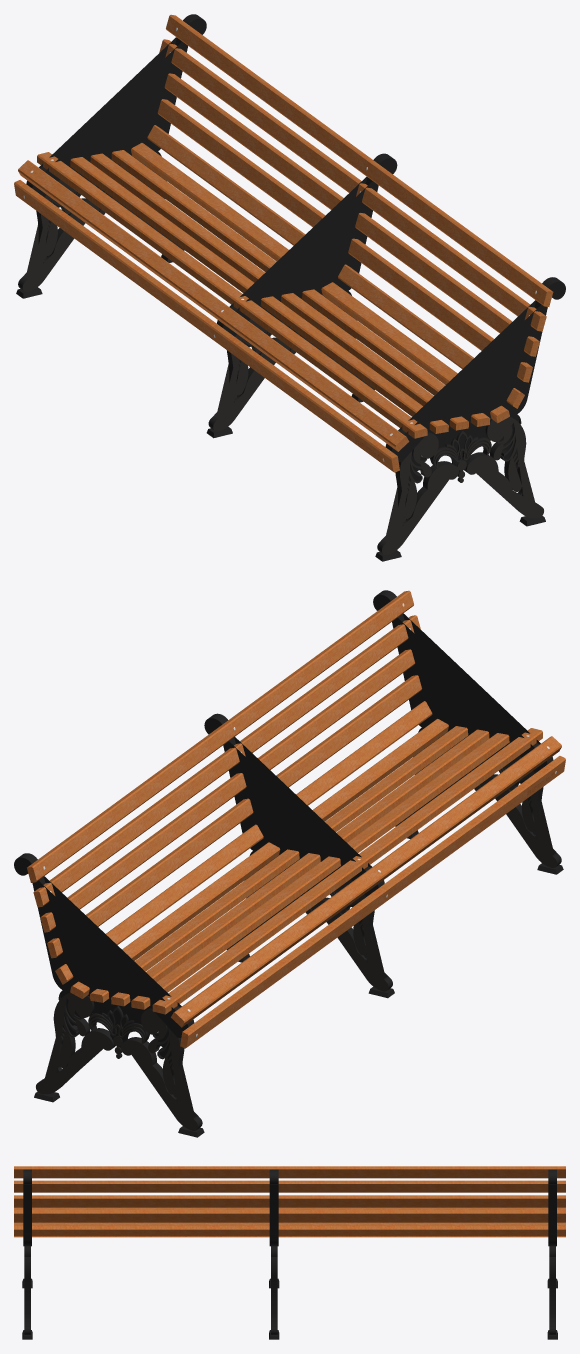
The model's file is bench.obj.
3 renders of one model, top to bottom at view 1: azimuth 30°, elevation 25°; view 2: azimuth 150°, elevation 25°; view 3: azimuth 270°, elevation 25°, orthographic. The views are drawn at different scales.
Parts seen in each view (by area): view 1: Mesh22 Group_59_12 Component_24_1 Model, Mesh12 Group_59_2 Component_24_1 Model, Mesh21 Group_59_11 Component_24_1 Model, Mesh1 Group_59_1 Component_24_1 Model, Mesh13 Group_59_3 Component_24_1 Model, Mesh20 Group_59_10 Component_24_1 Model, Mesh19 Group_59_9 Component_24_1 Model, Mesh2 Group1 Group_55_1 Component_24_1 Model, Mesh14 Group_59_4 Component_24_1 Model, Mesh17 Group_59_7 Component_24_1 Model, Mesh15 Group_59_5 Component_24_1 Model, Mesh18 Group_59_8 Component_24_1 Model (+10 smaller); view 2: Mesh22 Group_59_12 Component_24_1 Model, Mesh12 Group_59_2 Component_24_1 Model, Mesh21 Group_59_11 Component_24_1 Model, Mesh1 Group_59_1 Component_24_1 Model, Mesh13 Group_59_3 Component_24_1 Model, Mesh20 Group_59_10 Component_24_1 Model, Mesh19 Group_59_9 Component_24_1 Model, Mesh33 Group5 Group_55_5 Component_24_1 Model, Mesh14 Group_59_4 Component_24_1 Model, Mesh17 Group_59_7 Component_24_1 Model, Mesh15 Group_59_5 Component_24_1 Model, Mesh18 Group_59_8 Component_24_1 Model (+10 smaller); view 3: Mesh22 Group_59_12 Component_24_1 Model, Mesh19 Group_59_9 Component_24_1 Model, Mesh20 Group_59_10 Component_24_1 Model, Mesh21 Group_59_11 Component_24_1 Model, Mesh18 Group_59_8 Component_24_1 Model, Mesh14 Group_59_4 Component_24_1 Model, Mesh16 Group_59_6 Component_24_1 Model, Mesh17 Group_59_7 Component_24_1 Model, Mesh28 Group4 Group_55_4 Component_24_1 Model, Mesh2 Group1 Group_55_1 Component_24_1 Model, Mesh23 Group3 Group_55_3 Component_24_1 Model, Mesh38 Group6 Group_55_6 Component_24_1 Model (+8 smaller).
Boxes of the visible parts, x1=… form: Mesh22 Group_59_12 Component_24_1 Model: x1=166, y1=14, x2=553, y2=306; Mesh12 Group_59_2 Component_24_1 Model: x1=18, y1=160, x2=409, y2=451; Mesh21 Group_59_11 Component_24_1 Model: x1=159, y1=39, x2=546, y2=331; Mesh1 Group_59_1 Component_24_1 Model: x1=14, y1=180, x2=399, y2=472; Mesh13 Group_59_3 Component_24_1 Model: x1=37, y1=152, x2=427, y2=438; Mesh20 Group_59_10 Component_24_1 Model: x1=164, y1=73, x2=539, y2=356; Mesh19 Group_59_9 Component_24_1 Model: x1=157, y1=99, x2=532, y2=382; Mesh2 Group1 Group_55_1 Component_24_1 Model: x1=388, y1=279, x2=565, y2=461; Mesh14 Group_59_4 Component_24_1 Model: x1=70, y1=157, x2=448, y2=433; Mesh17 Group_59_7 Component_24_1 Model: x1=131, y1=143, x2=509, y2=423; Mesh15 Group_59_5 Component_24_1 Model: x1=90, y1=153, x2=468, y2=430; Mesh18 Group_59_8 Component_24_1 Model: x1=147, y1=125, x2=524, y2=408; Mesh22 Group_59_12 Component_24_1 Model: x1=27, y1=590, x2=413, y2=882; Mesh12 Group_59_2 Component_24_1 Model: x1=171, y1=736, x2=561, y2=1027; Mesh21 Group_59_11 Component_24_1 Model: x1=33, y1=615, x2=420, y2=907; Mesh1 Group_59_1 Component_24_1 Model: x1=180, y1=756, x2=565, y2=1048; Mesh13 Group_59_3 Component_24_1 Model: x1=152, y1=728, x2=542, y2=1014; Mesh20 Group_59_10 Component_24_1 Model: x1=40, y1=649, x2=414, y2=932; Mesh19 Group_59_9 Component_24_1 Model: x1=47, y1=675, x2=421, y2=958; Mesh33 Group5 Group_55_5 Component_24_1 Model: x1=14, y1=855, x2=191, y2=1037; Mesh14 Group_59_4 Component_24_1 Model: x1=131, y1=733, x2=509, y2=1009; Mesh17 Group_59_7 Component_24_1 Model: x1=70, y1=719, x2=448, y2=998; Mesh15 Group_59_5 Component_24_1 Model: x1=111, y1=729, x2=489, y2=1006; Mesh18 Group_59_8 Component_24_1 Model: x1=55, y1=701, x2=432, y2=984; Mesh22 Group_59_12 Component_24_1 Model: x1=14, y1=1166, x2=565, y2=1178; Mesh19 Group_59_9 Component_24_1 Model: x1=14, y1=1210, x2=565, y2=1222; Mesh20 Group_59_10 Component_24_1 Model: x1=14, y1=1195, x2=565, y2=1207; Mesh21 Group_59_11 Component_24_1 Model: x1=14, y1=1180, x2=565, y2=1192; Mesh18 Group_59_8 Component_24_1 Model: x1=14, y1=1225, x2=565, y2=1235; Mesh14 Group_59_4 Component_24_1 Model: x1=14, y1=1207, x2=565, y2=1210; Mesh16 Group_59_6 Component_24_1 Model: x1=14, y1=1222, x2=565, y2=1225; Mesh17 Group_59_7 Component_24_1 Model: x1=14, y1=1236, x2=565, y2=1237; Mesh28 Group4 Group_55_4 Component_24_1 Model: x1=269, y1=1169, x2=274, y2=1256; Mesh2 Group1 Group_55_1 Component_24_1 Model: x1=23, y1=1169, x2=27, y2=1256; Mesh23 Group3 Group_55_3 Component_24_1 Model: x1=274, y1=1169, x2=278, y2=1256; Mesh38 Group6 Group_55_6 Component_24_1 Model: x1=548, y1=1169, x2=552, y2=1256.
Bounding box in the file's own units: 25.06 × 30.81 × 89.02.
5 materials, 2 textured.
